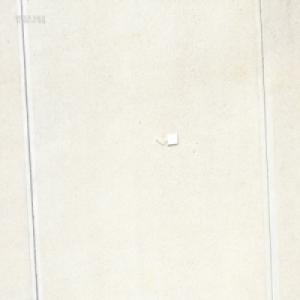LuggageTag: (153, 131, 178, 148)
